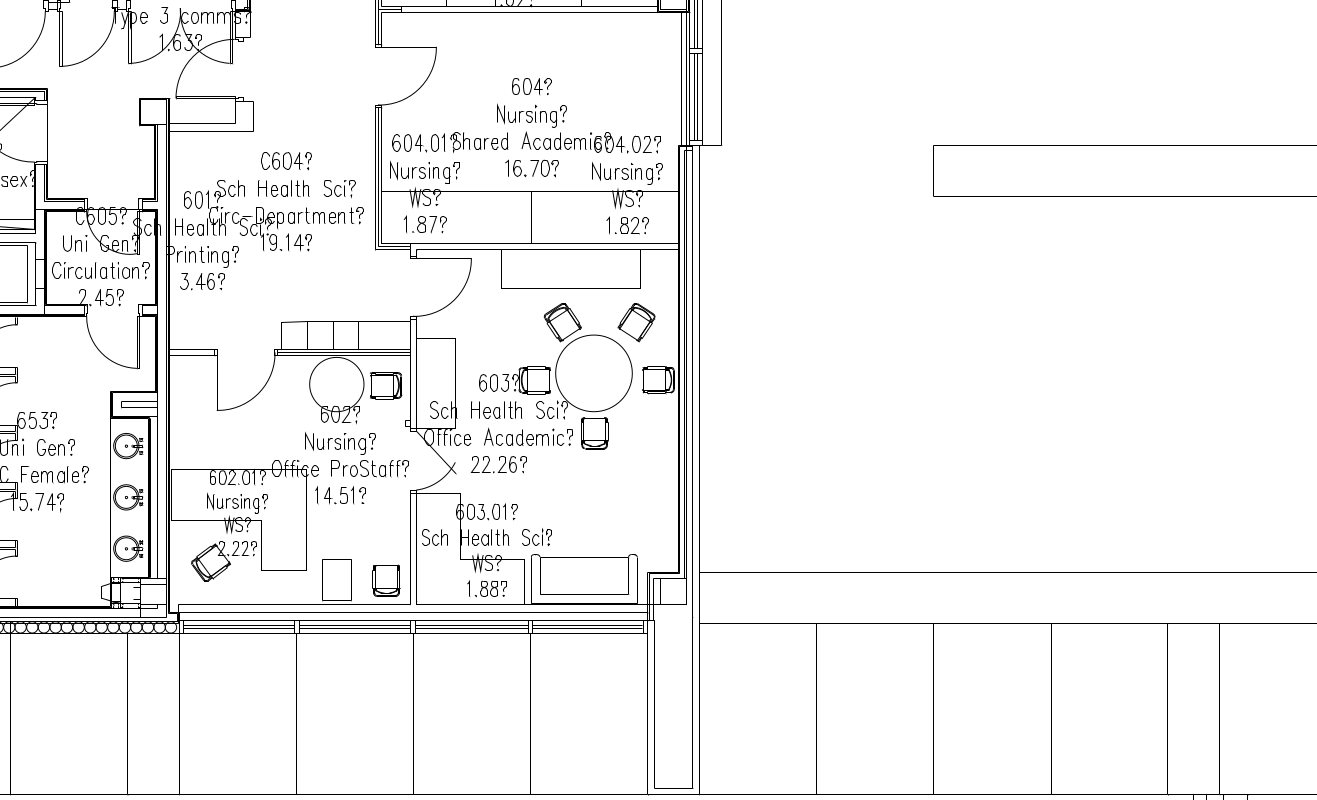door: (214, 347, 276, 420), (83, 314, 145, 381), (417, 254, 479, 321), (399, 427, 461, 494), (383, 39, 440, 111), (172, 32, 229, 104)
